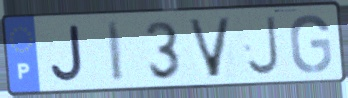3: (143, 19, 184, 81)
G: (287, 13, 334, 76)
I: (104, 19, 126, 84)
J: (245, 13, 282, 78), (48, 23, 85, 85)
V: (185, 15, 235, 80)
